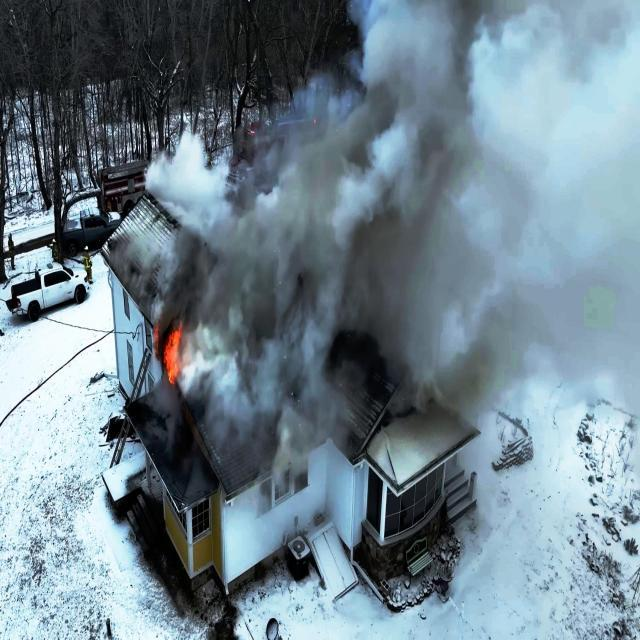Fire: (148, 316, 186, 380)
Smoke: (190, 0, 640, 447), (140, 125, 184, 220)
